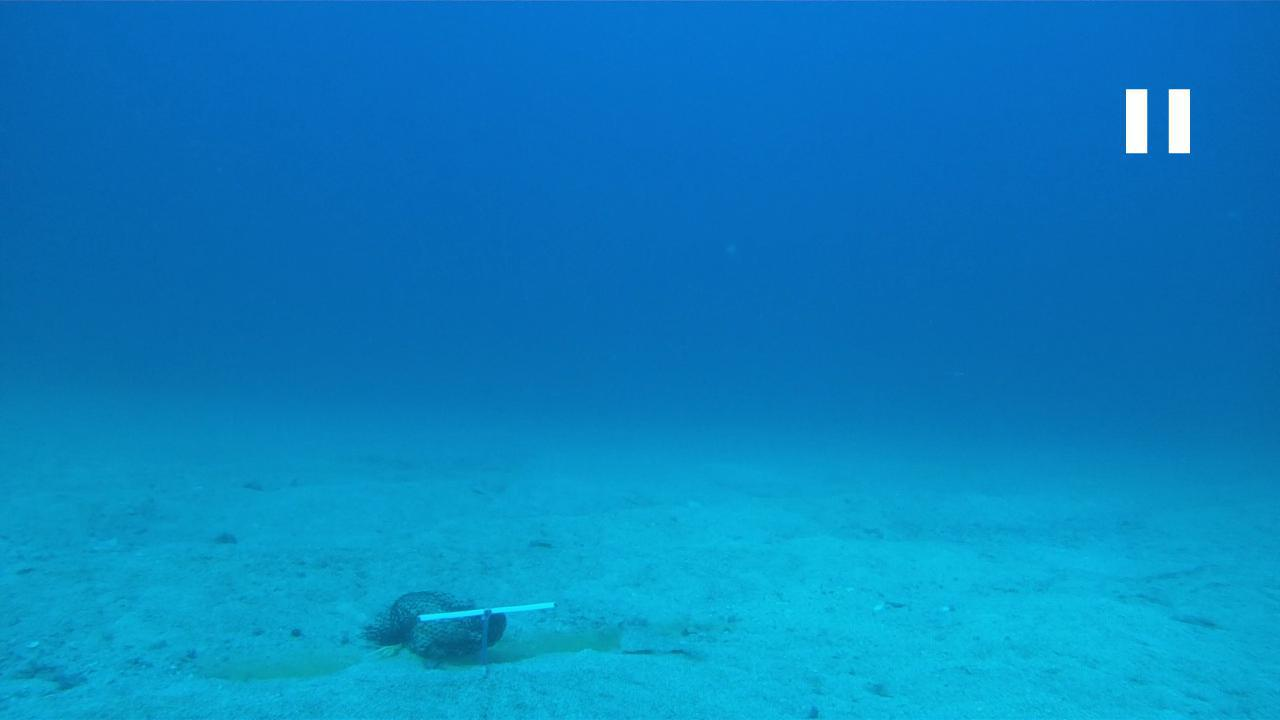bothus: (612, 621, 702, 662)
